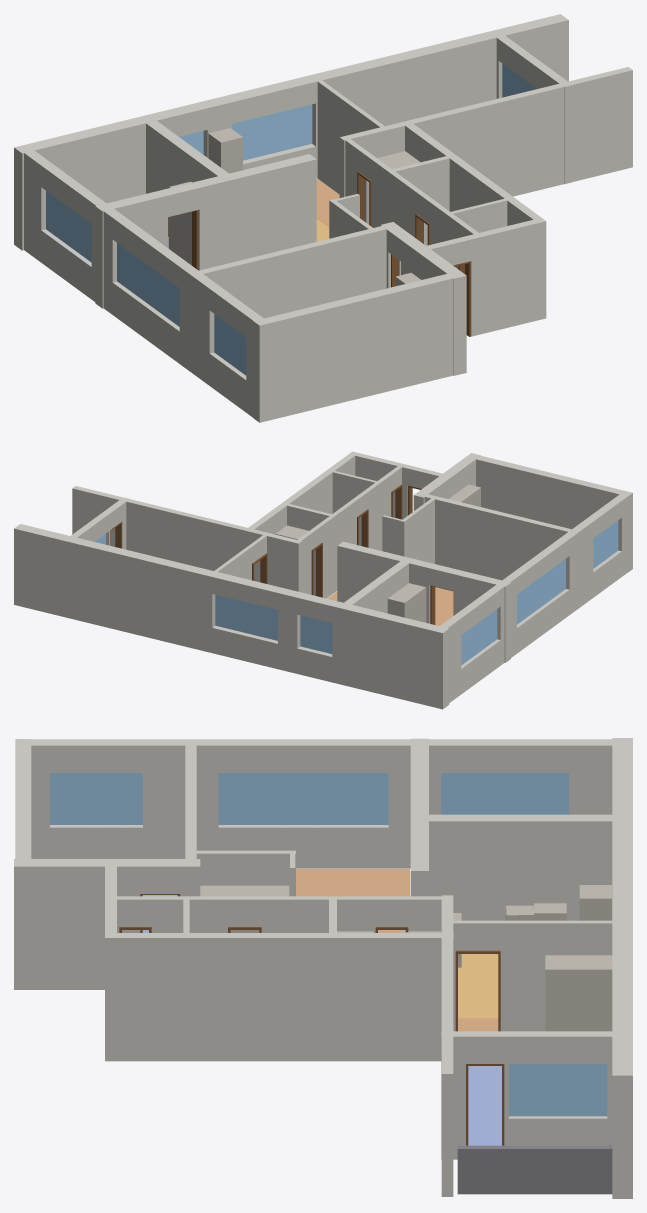
3 views of the same model, one above another, from view 1: azimuth 30°, elevation 25°; view 2: azimuth 150°, elevation 25°; view 3: azimuth 270°, elevation 25° (orthographic). The views are drawn at different scales.
Visible parts, largest first — view 1: walls, window_0, window_7, window_3, furniture_1_closet, window_5, furniture_2_closet, furniture_3_closet, floor_2_Living_Room, window_2; view 2: walls, window_0, window_7, furniture_2_closet, window_3, window_1, window_5, floor_3_Living_Room, door_10, furniture_6_closet, furniture_4_closet; view 3: walls, window_7, railings, window_3, window_2, furniture_0_closet, window_5, floor_3_Living_Room, floor_5_Bed_Room, floor_1_Kitchen, furniture_1_closet, furniture_5_closet (+1 smaller).
Part boxes in pixels (<box>): walls: <box>14,14,632,422</box>; window_0: <box>232,104,312,160</box>; window_7: <box>117,243,179,326</box>; window_3: <box>46,191,91,262</box>; furniture_1_closet: <box>208,128,242,173</box>; window_5: <box>214,314,246,375</box>; furniture_2_closet: <box>169,181,191,265</box>; furniture_3_closet: <box>364,151,420,224</box>; floor_2_Living_Room: <box>316,179,339,226</box>; window_2: <box>502,63,536,97</box>; walls: <box>14,451,632,709</box>; window_0: <box>215,594,277,640</box>; window_7: <box>517,559,565,624</box>; furniture_2_closet: <box>387,583,426,622</box>; window_3: <box>461,609,497,665</box>; window_1: <box>300,615,332,653</box>; window_5: <box>593,520,618,568</box>; floor_3_Living_Room: <box>327,587,453,625</box>; door_10: <box>311,543,322,597</box>; furniture_6_closet: <box>448,484,480,506</box>; furniture_4_closet: <box>275,525,315,595</box>; walls: <box>14,738,632,1198</box>; window_7: <box>218,773,388,824</box>; railings: <box>457,1144,612,1194</box>; window_3: <box>441,773,568,814</box>; window_2: <box>509,1064,607,1116</box>; furniture_0_closet: <box>545,955,612,1031</box>; window_5: <box>50,773,142,824</box>; floor_3_Living_Room: <box>296,869,409,932</box>; floor_5_Bed_Room: <box>468,1066,501,1145</box>; floor_1_Kitchen: <box>458,954,498,1018</box>; furniture_1_closet: <box>579,885,611,920</box>; furniture_5_closet: <box>200,885,289,932</box>.
Size of the model in its own units: 15.89 by 2.72 by 12.31.
